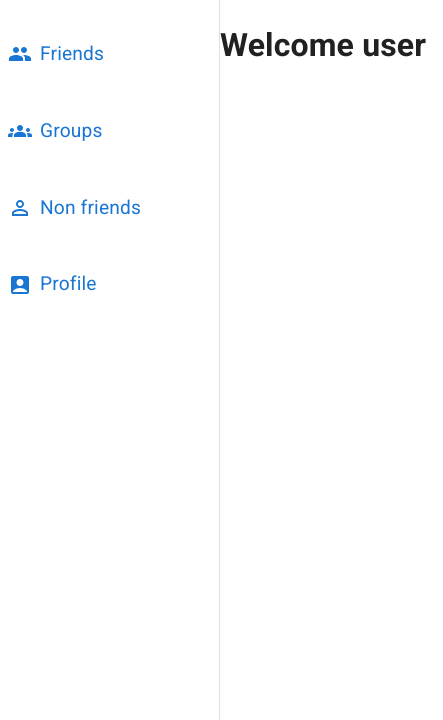
navigation-sidebar component › friends icon link › should navigate to '/friends' path when the friends link is clicked
Click the link "Friends" at (56, 54), box [8,42,104,66]
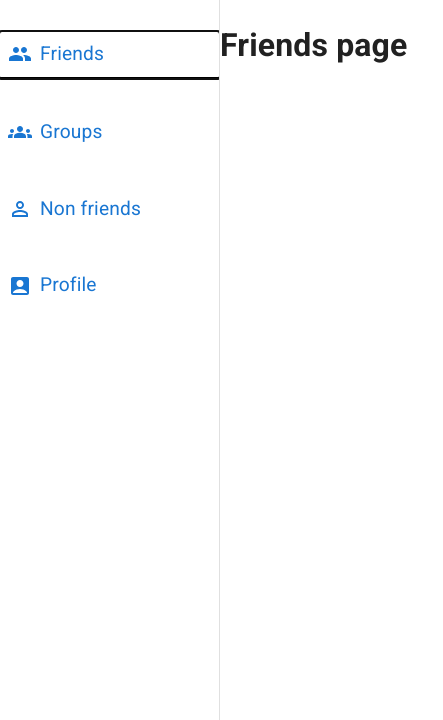
Result: the heading "Friends page" is shown at [220,21,408,69]
